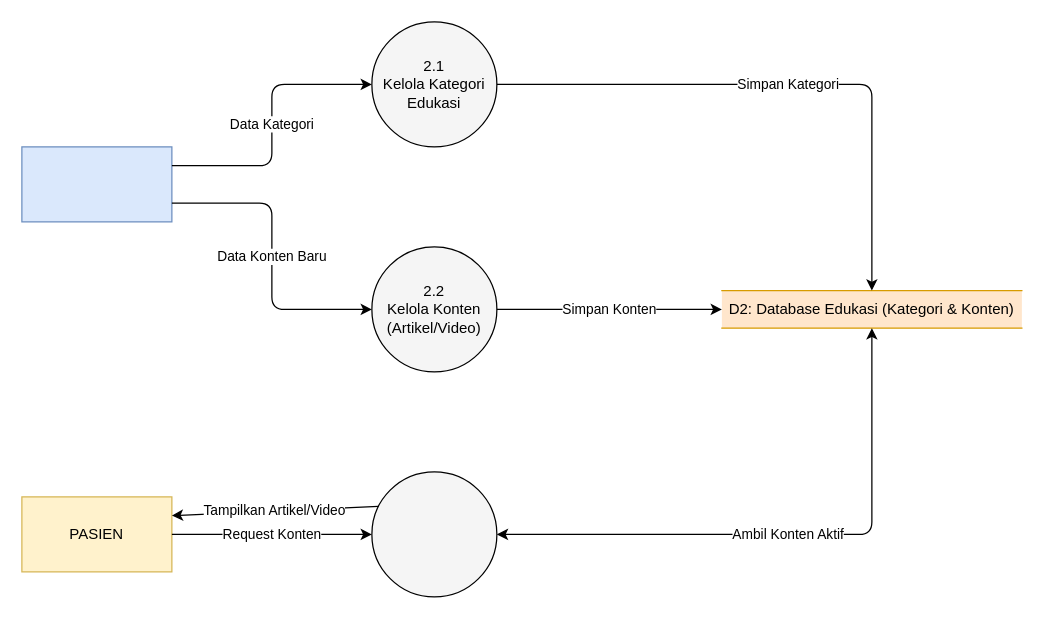
This 1044x619 diagram has some shape labels left out. The shapes that lost their labels are listed below. From the top down, each one's box as (x1, y1, x2, y2) in pixels, then its label:
(21, 146, 172, 222): ADMIN
(371, 471, 497, 597): 2.3 Akses & Baca Konten
